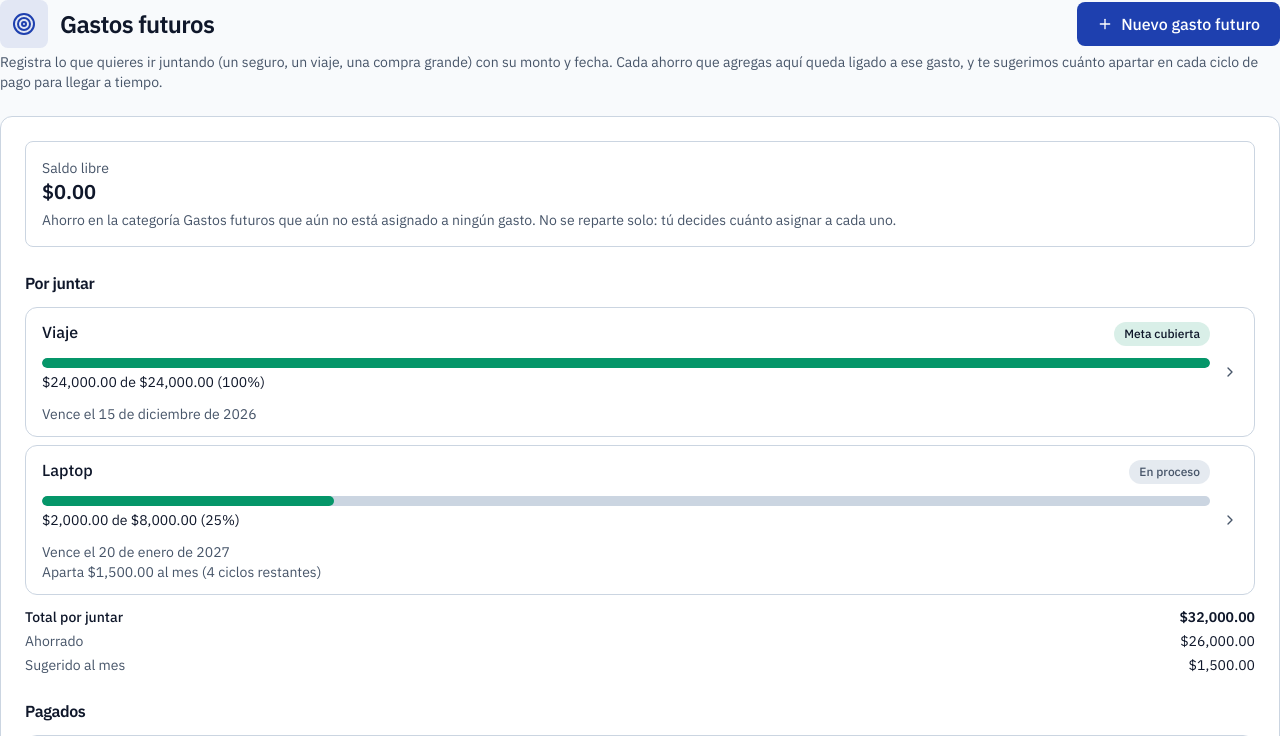
Test: FutureExpenses page › hides the assign action when there is no free balance
The image size is (1280, 736).
Expected: the list named "Gastos futuros activos" is shown, [25,307,1255,595]
Step 1. Click the button with aria-label "Ver Laptop" → (640, 520), box [25,445,1255,595]
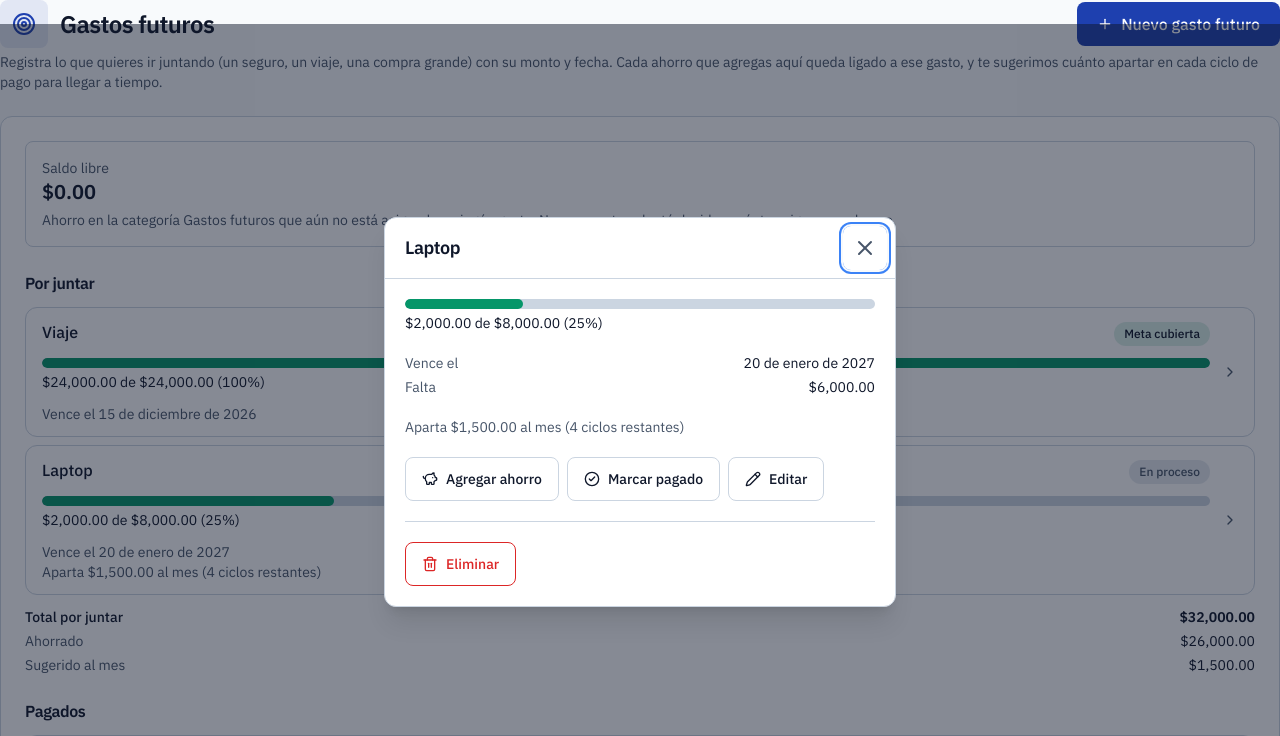
Expected: the button with aria-label "Marcar pagado Laptop" is shown, [567,457,720,501]
